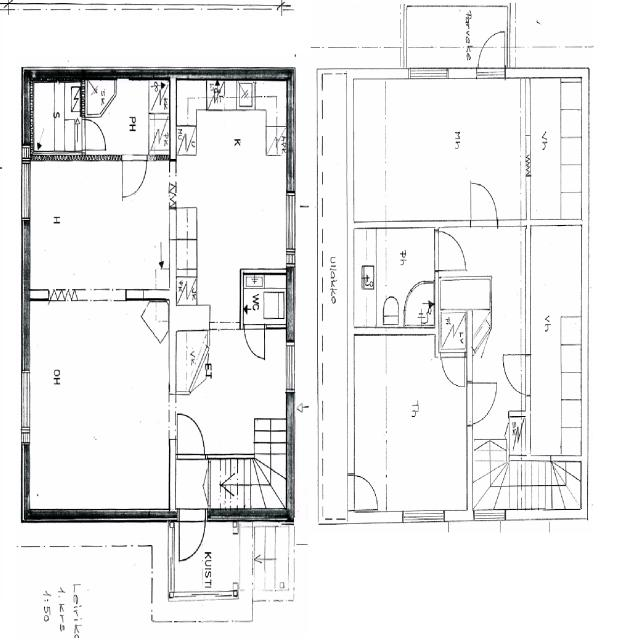door: (468, 381, 503, 426), (178, 509, 206, 562), (476, 27, 504, 80), (498, 354, 531, 395), (470, 178, 497, 227), (347, 471, 379, 509), (179, 414, 205, 460), (122, 154, 146, 198), (435, 231, 463, 268), (442, 352, 464, 391), (81, 120, 106, 150), (245, 324, 265, 360)
